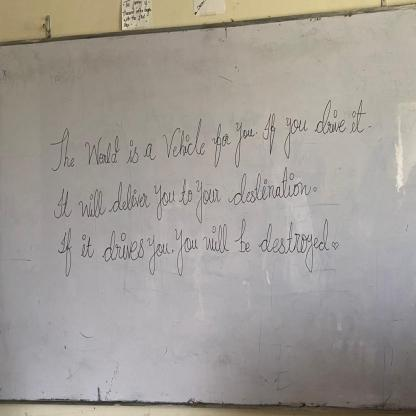Handwritten text: (51, 95, 375, 167), (52, 222, 333, 273), (38, 169, 318, 219)
Whiteboard: (0, 0, 416, 411)
